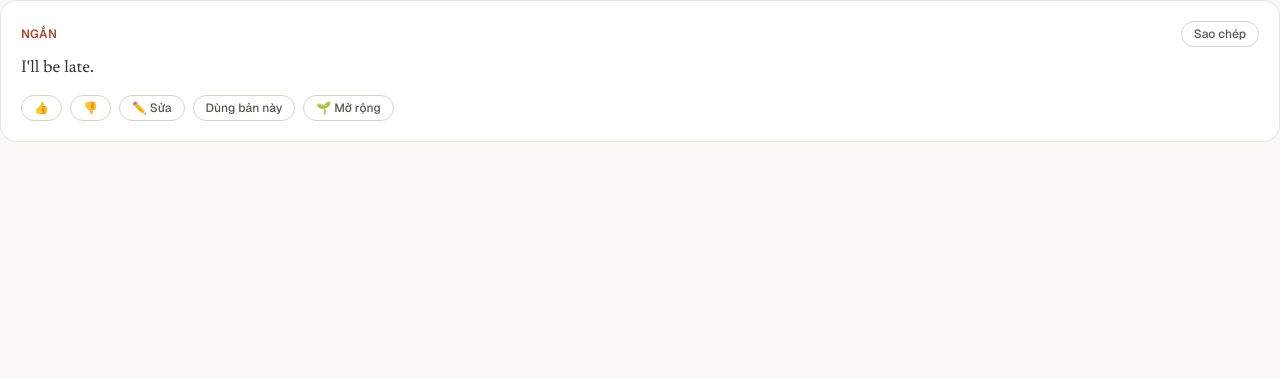
it: DevelopableOption › asks for the detail itself when a personal detail is chosen without one
The width and height of the screenshot is (1280, 379).
expect the button named "Bản nháp hay" is shown: met, box [21, 95, 62, 121]
Click the button with aria-label "Mở rộng bản nháp này".
click(349, 108)  # box [303, 95, 394, 121]
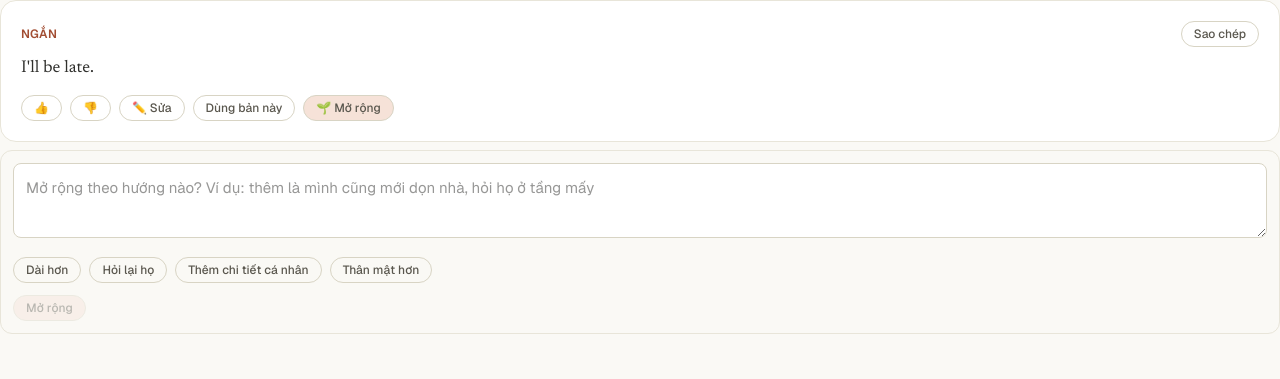
Click the button "Thêm chi tiết cá nhân".
click(249, 270)  # box [175, 257, 322, 283]
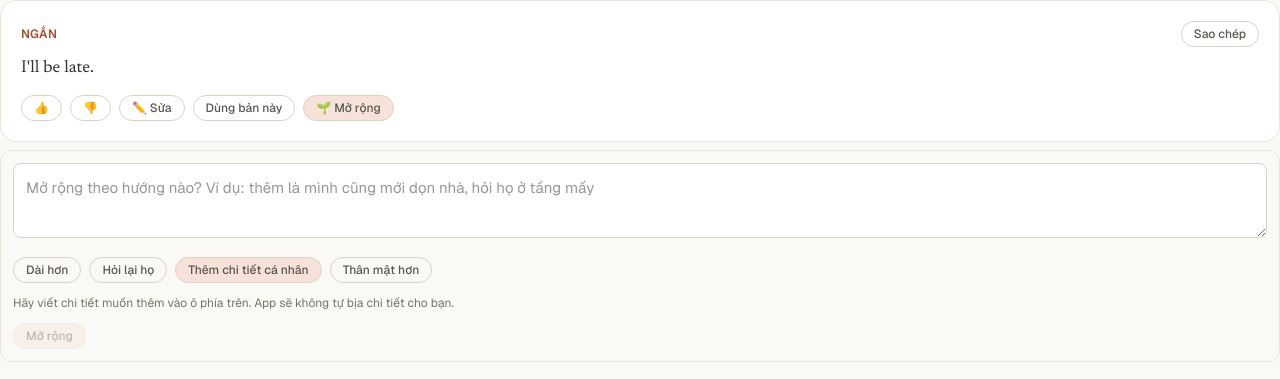
expect the button "Mở rộng" is disabled: met, box [13, 323, 86, 349]
expect the text "không tự bịa chi tiết" is shown: met, box [13, 295, 454, 311]
Replace the text in the text box named "mở rộng bản nháp này theo hướng nào" with "mình mới dọn nhà" at [640, 200], box [13, 163, 1267, 238]
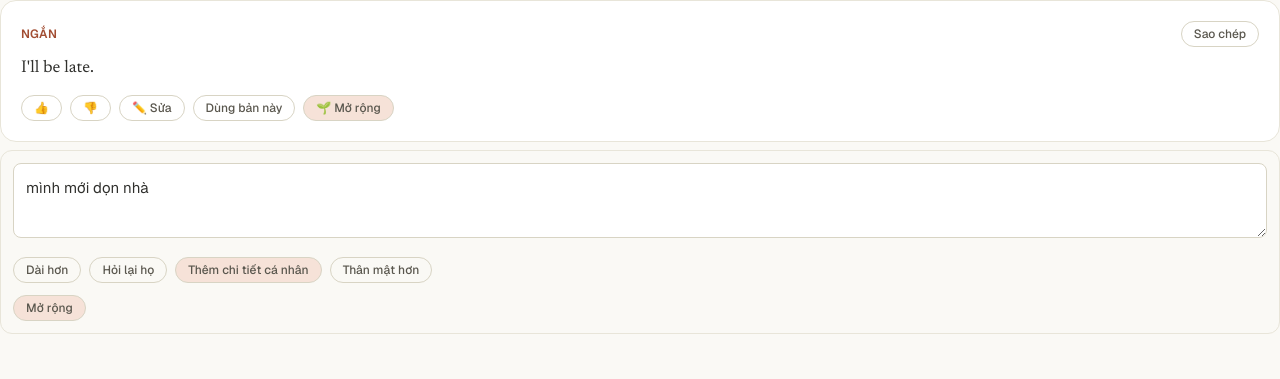
expect the button "Mở rộng" is enabled: met, box [13, 295, 86, 321]
